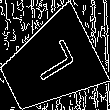L_SW: (23, 39, 77, 91)
